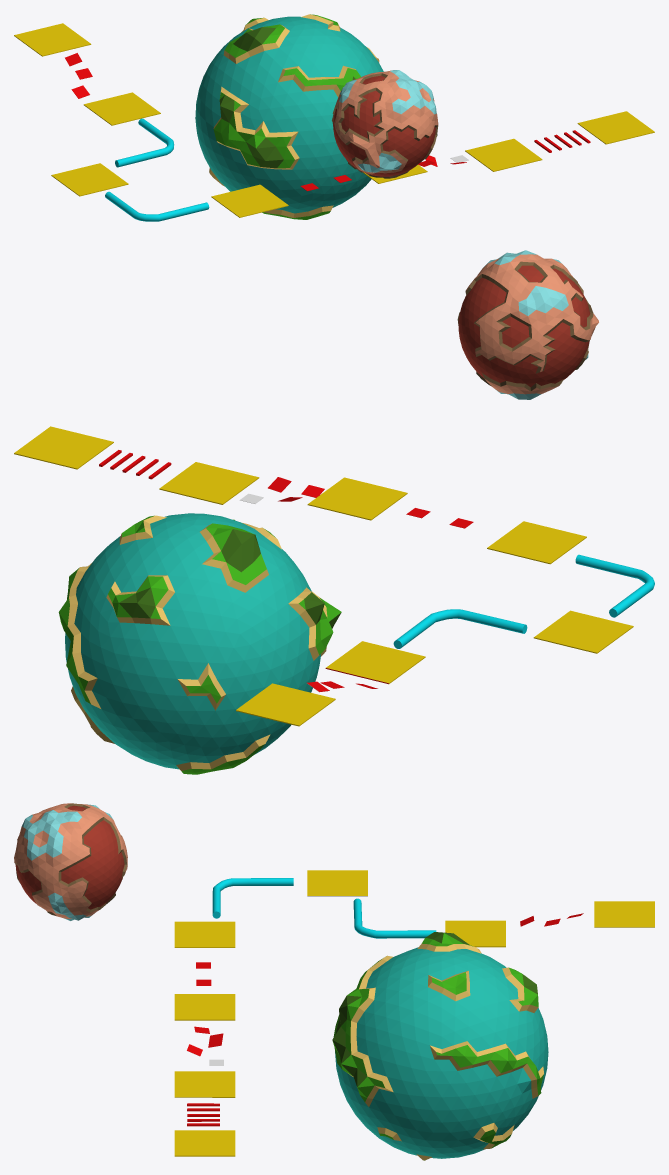
File: galaxy.fbx
The picture shows the model from 3 angles, top to bottom: view 1: azimuth 30°, elevation 25°; view 2: azimuth 150°, elevation 25°; view 3: azimuth 270°, elevation 25°; orthographic projection. The views are drawn at different scales.
Visible parts, largest first — view 1: Planet, Ground, Mystery Planet; view 2: Planet, Ground, Mystery Planet; view 3: Planet, Ground, Mystery Planet.
Part boxes in pixels (left/top/right/bottom): Planet: left=195, top=14, right=383, bottom=219; Ground: left=14, top=23, right=654, bottom=221; Mystery Planet: left=332, top=70, right=438, bottom=178; Planet: left=58, top=513, right=341, bottom=774; Ground: left=14, top=426, right=654, bottom=726; Mystery Planet: left=457, top=250, right=598, bottom=399; Planet: left=332, top=932, right=548, bottom=1160; Ground: left=174, top=870, right=654, bottom=1156; Mystery Planet: left=14, top=803, right=127, bottom=920.
Bounding box in the file's own units: 6279 × 3261 × 6337.
